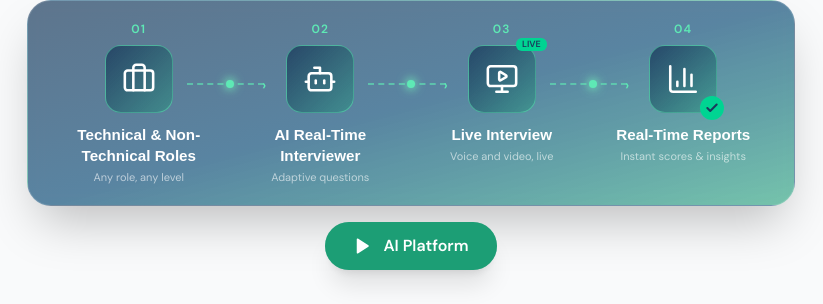
Test: IntroPlayer (Play button) › Stop cancels the speech and returns to Play
Click the button with aria-label "play introduction".
click(411, 246)  # box [326,222,497,270]
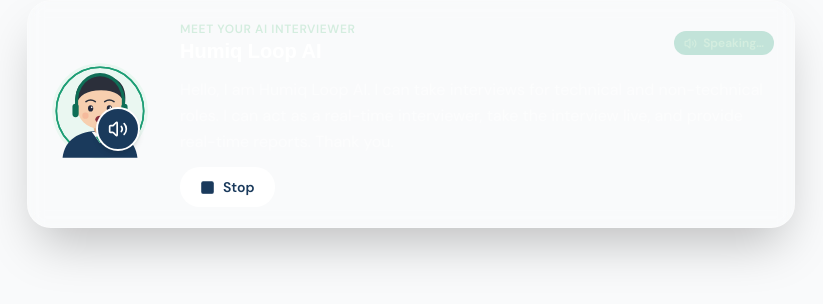
Click the button "Stop".
click(227, 187)  # box [180,167,275,207]
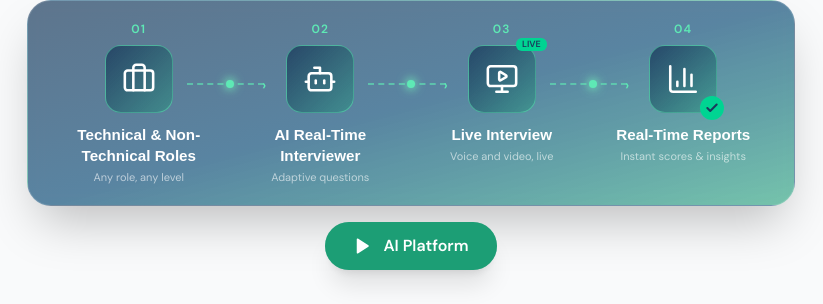
Expected: the button with aria-label "play introduction" is shown, [326,222,497,270]
